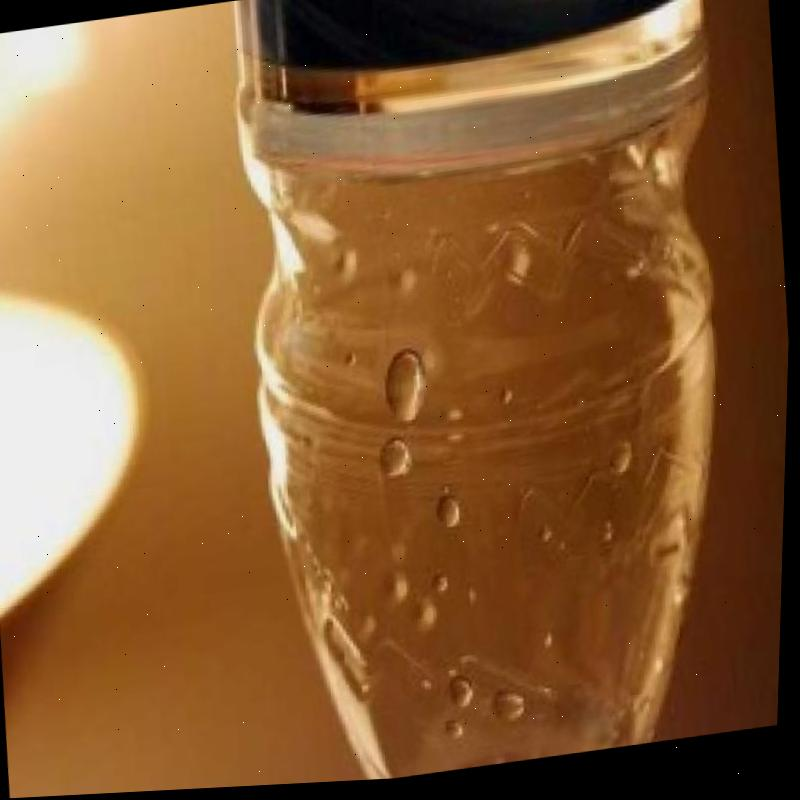botella: (214, 0, 776, 791)
